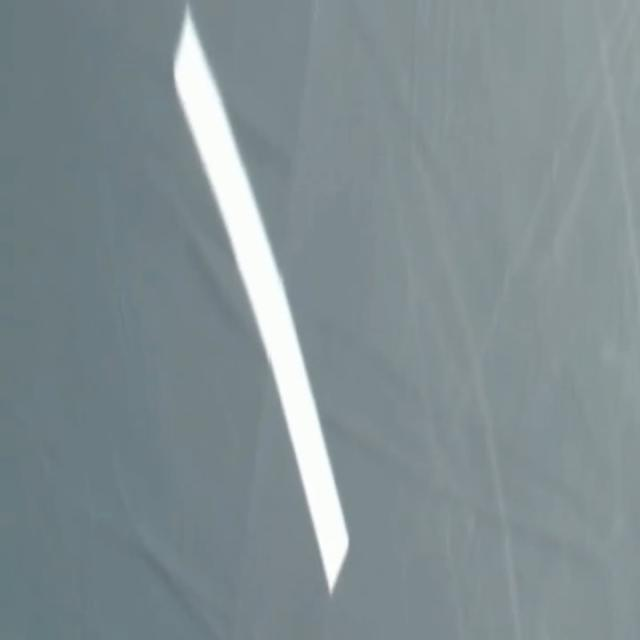center: (173, 5, 348, 594)
